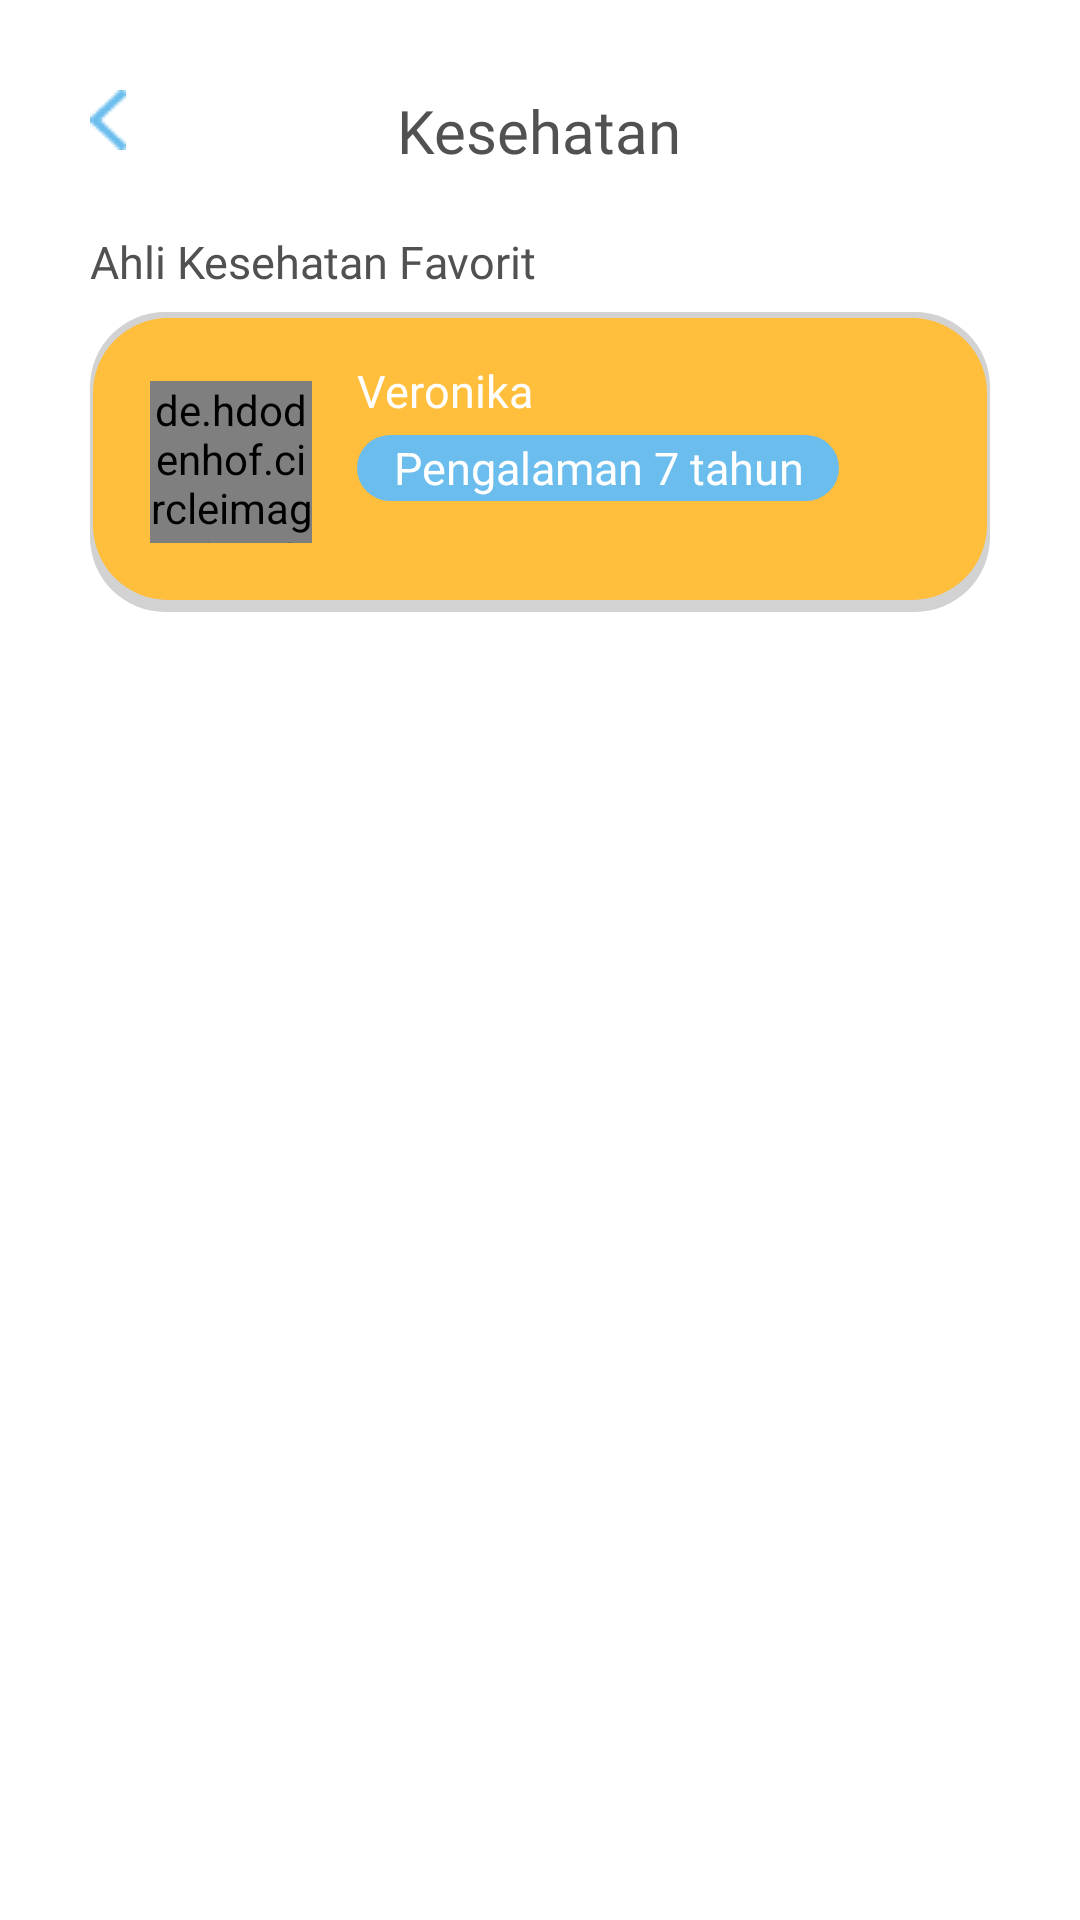

Where icons sit on this 1080w x 1920h app screen, as bbox=(x1, y1, x2, y2):
back: bbox=(90, 90, 126, 150)
